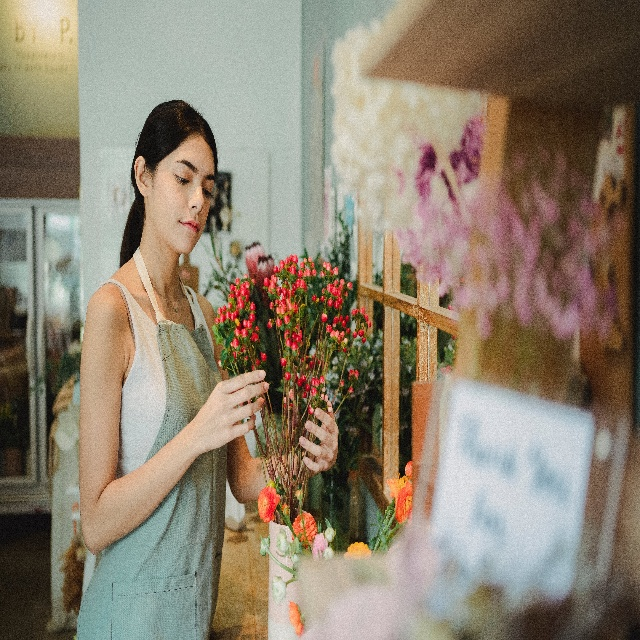Sin_guantes: (200, 369, 269, 459), (298, 404, 340, 475)
